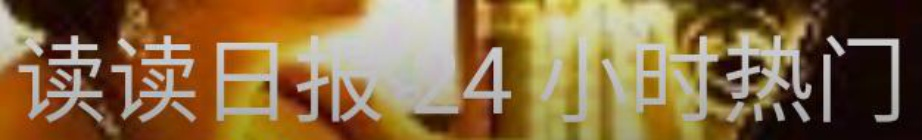TextView: (1, 1, 921, 139)
